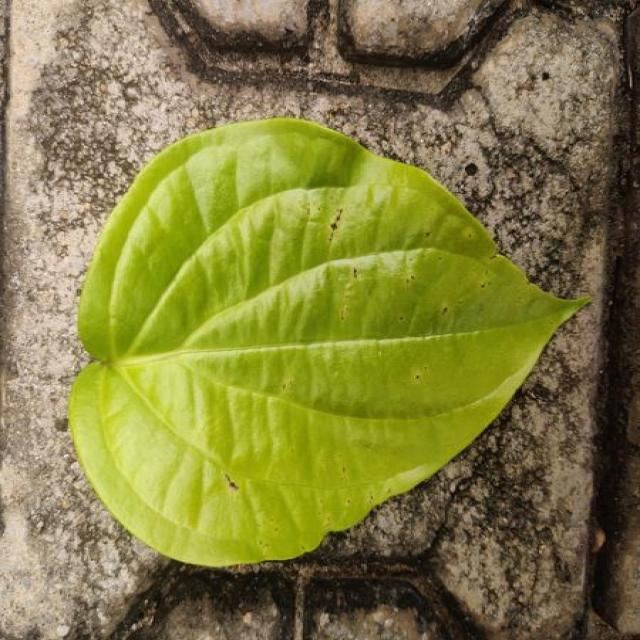betel: (68, 119, 590, 566)
